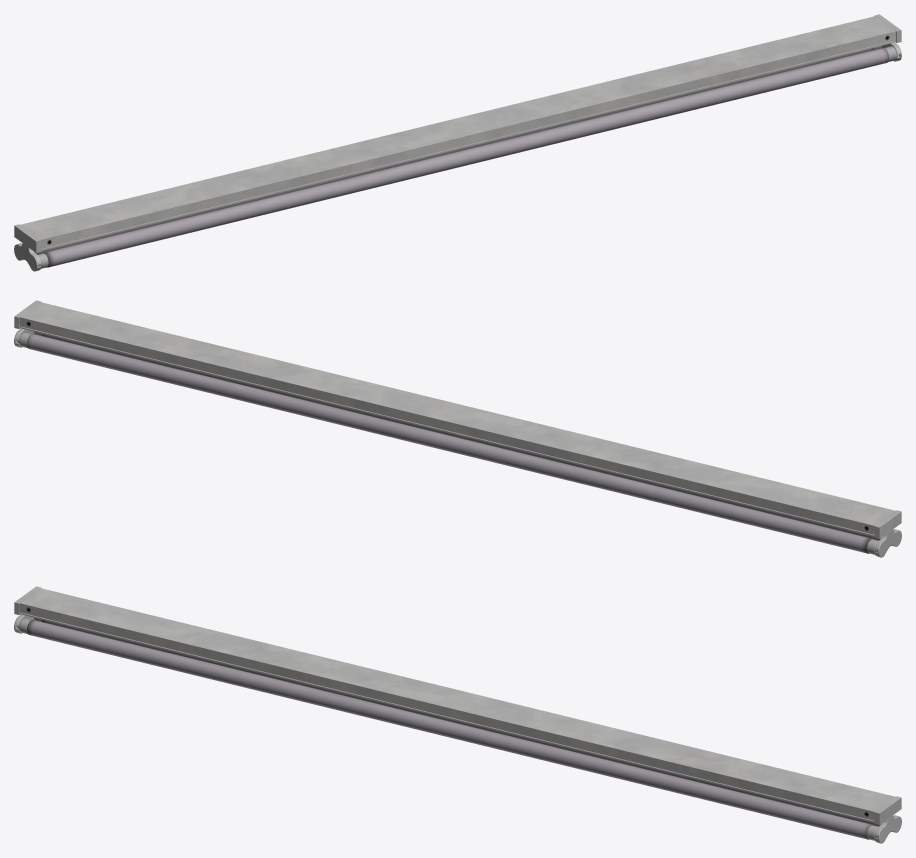
The model's file is fluoro_light.glb.
3 views of the same model, one above another, from view 1: azimuth 30°, elevation 25°; view 2: azimuth 150°, elevation 25°; view 3: azimuth 330°, elevation 25° (orthographic).
Visible parts, largest first — view 1: mounted_fluorescent_lights_d; view 2: mounted_fluorescent_lights_d; view 3: mounted_fluorescent_lights_d.
Part boxes in pixels (<box>): mounted_fluorescent_lights_d: <box>14,14,901,271</box>; mounted_fluorescent_lights_d: <box>14,300,901,557</box>; mounted_fluorescent_lights_d: <box>14,586,901,843</box>.
Bounding box in the file's own units: 0.9109 × 0.0324 × 0.0422.
Materials: 2 (2 with a texture image).
